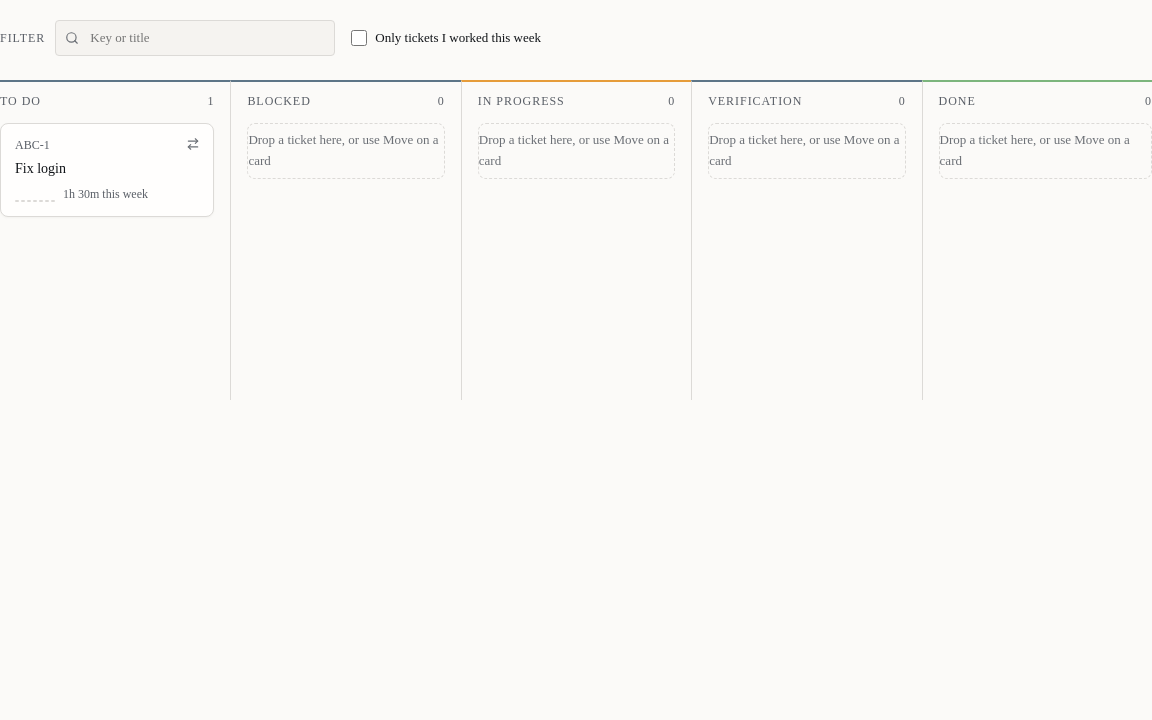
Test: card error and selection › the panel status menu says plainly when Jira offers nothing
Click the button "ABC-1 Fix login 1h 30m this week" at {"x": 107, "y": 170}, box x1=1 y1=124 x2=213 y2=216
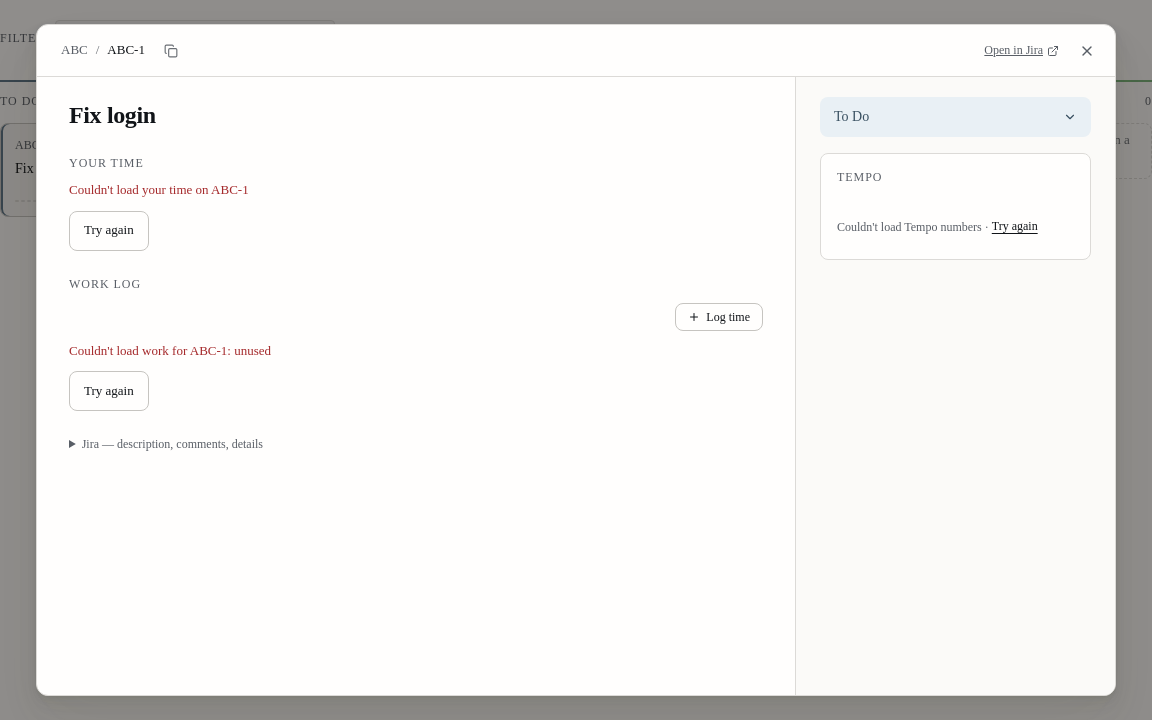
Check: the dialog is shown
Click the button with test id "status-ABC-1" at {"x": 852, "y": 117}, box x1=820 y1=97 x2=1091 y2=137
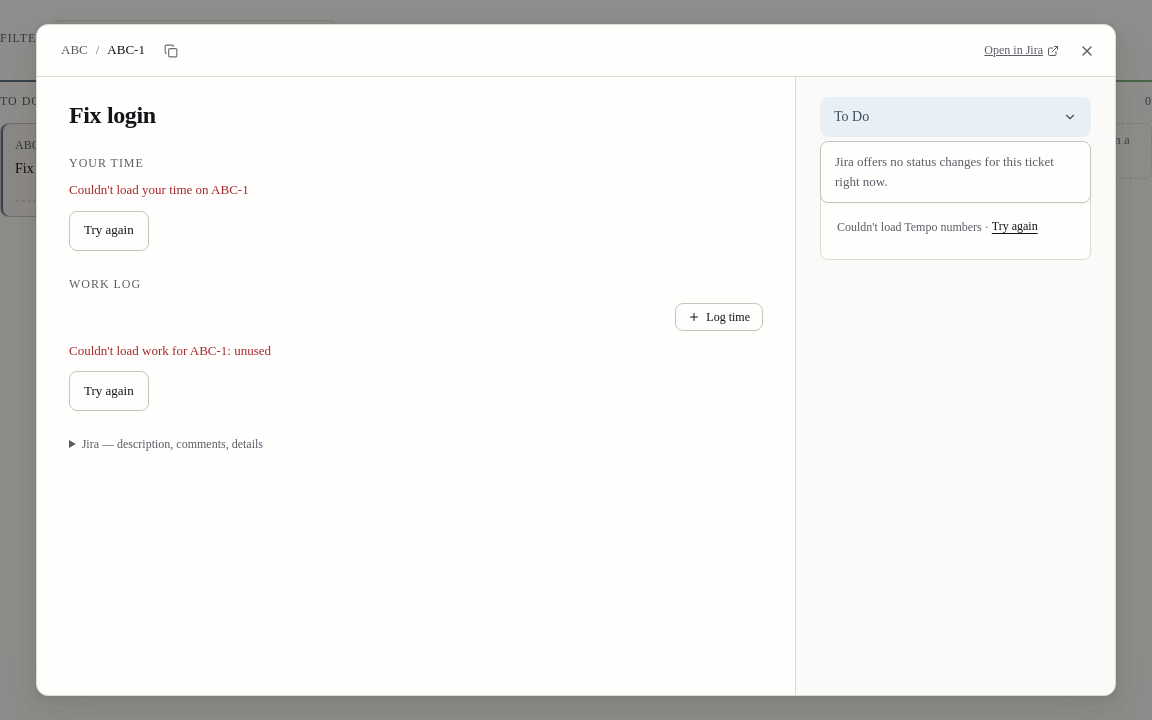
Check: the text "Jira offers no status changes for this ticket right now." is shown, box x1=835 y1=154 x2=1054 y2=189
